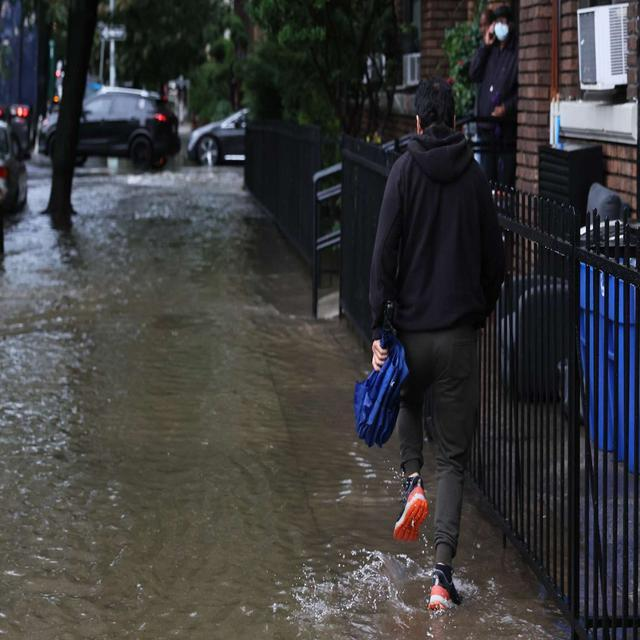Person-RiskLevel2: (360, 78, 515, 622)
